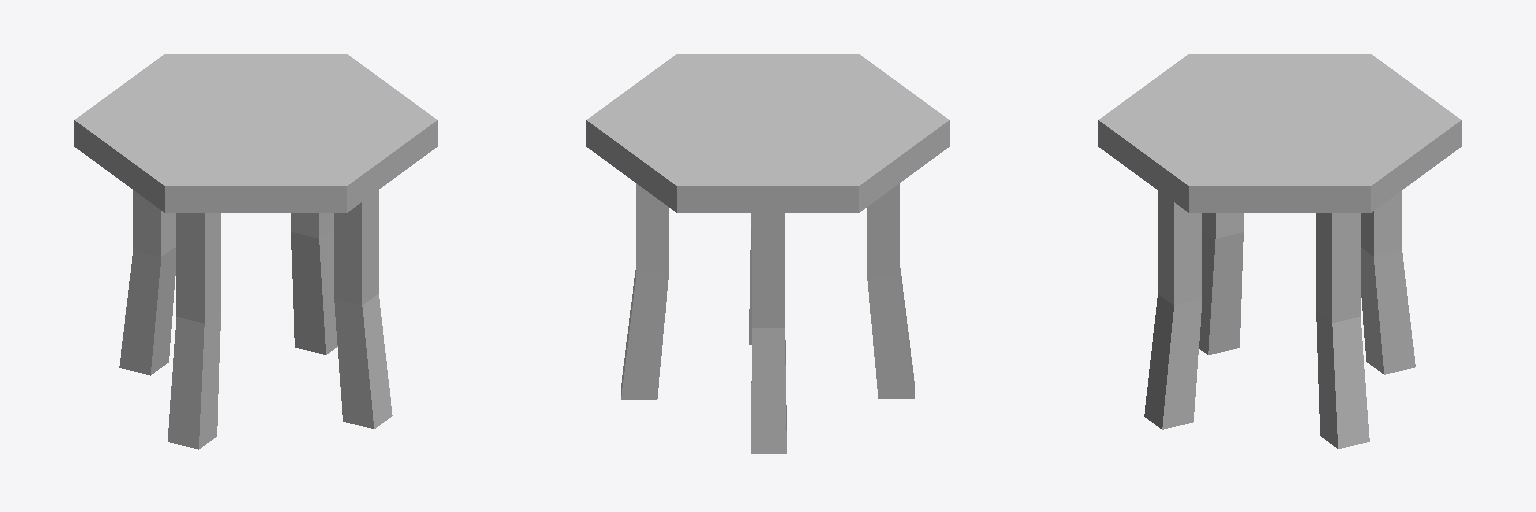
File: Stool.obj
3 renders of one model, left to right at view 1: azimuth 30°, elevation 25°; view 2: azimuth 150°, elevation 25°; view 3: azimuth 270°, elevation 25°, orthographic.
Parts seen in each view (by area): view 1: Stool; view 2: Stool; view 3: Stool.
Boxes of the visible parts, x1,y1,x2,y2 form: Stool: [74, 54, 437, 449]; Stool: [586, 54, 949, 453]; Stool: [1098, 54, 1461, 448].
Bounding box in the file's own units: 0.6015 × 0.574 × 0.6946.